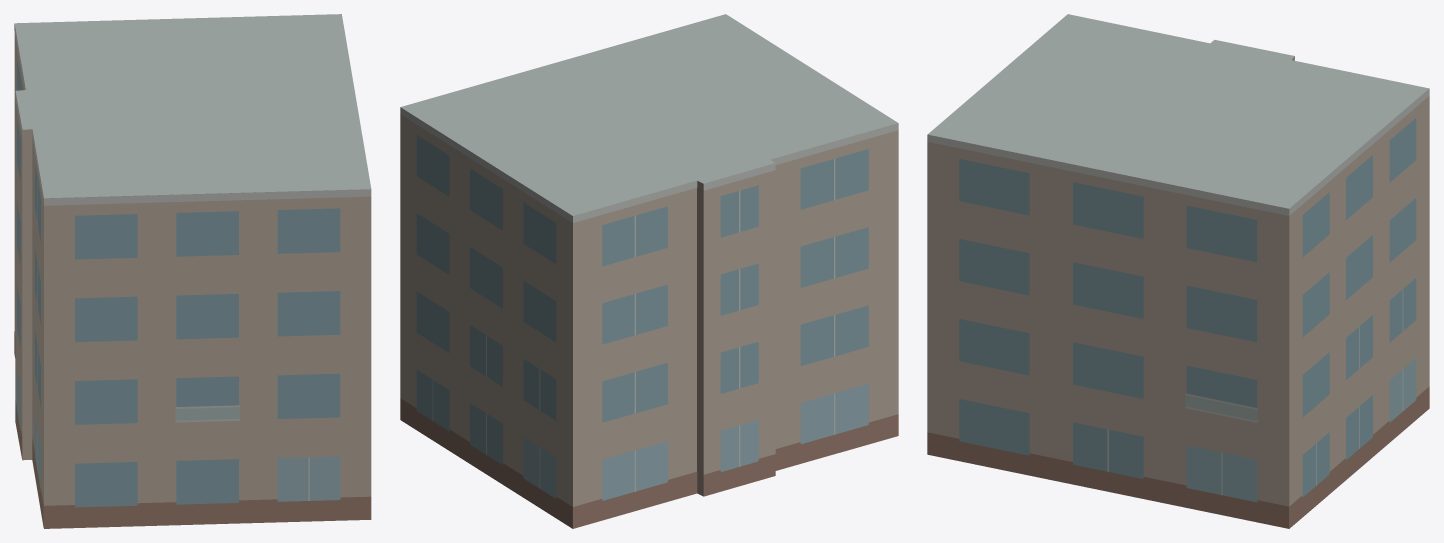
The model's file is survey-upis-32531439.glb.
3 renders of one model, left to right at view 1: azimuth 30°, elevation 25°; view 2: azimuth 150°, elevation 25°; view 3: azimuth 270°, elevation 25°, orthographic. The views are drawn at different scales.
Parts seen in each view (by area): view 1: survey-upis-32531439.tmp; view 2: survey-upis-32531439.tmp; view 3: survey-upis-32531439.tmp.
Boxes of the visible parts, left/top/right/bottom form: survey-upis-32531439.tmp: left=14, top=14, right=371, bottom=528; survey-upis-32531439.tmp: left=400, top=14, right=898, bottom=528; survey-upis-32531439.tmp: left=927, top=14, right=1429, bottom=528.
Bounding box in the file's own units: 14.17 × 10.85 × 15.43.
